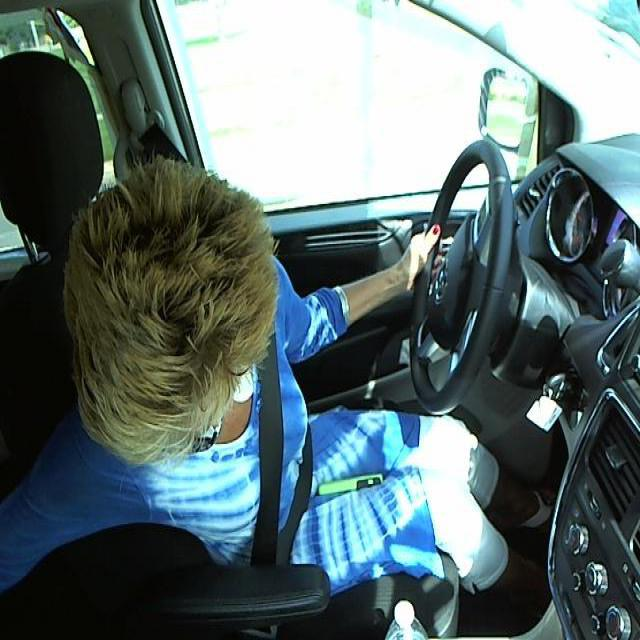seatbelt: (241, 367, 326, 552)
